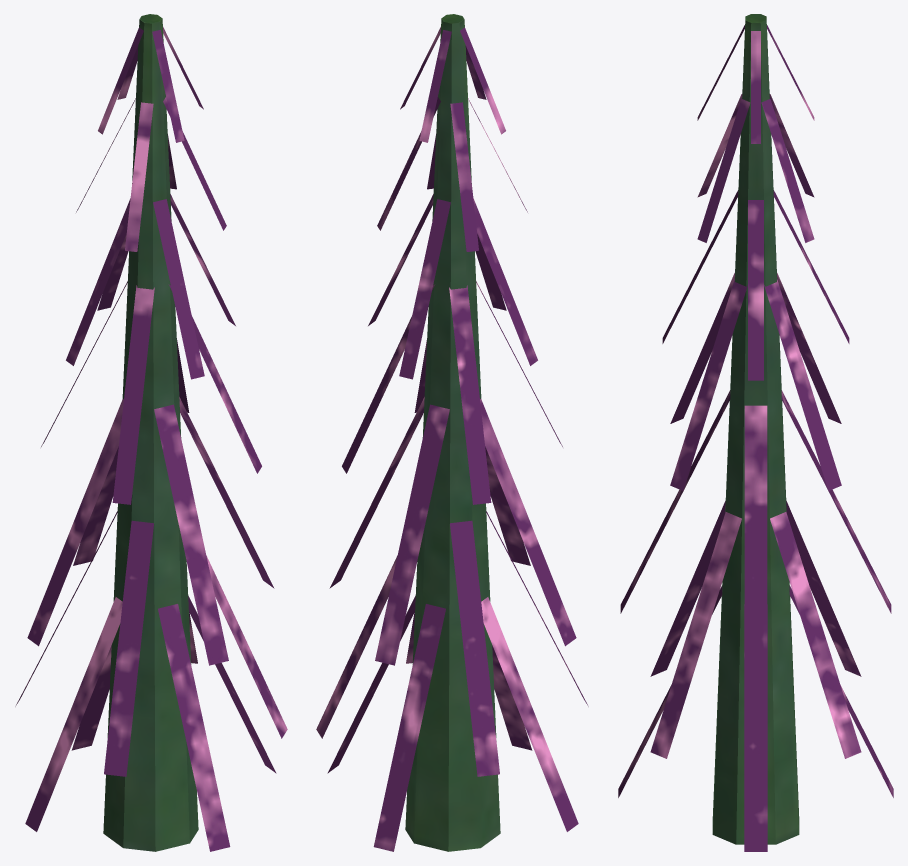
The model's file is Plant1.fbx.
The picture shows the model from 3 angles, left to right: view 1: azimuth 30°, elevation 25°; view 2: azimuth 150°, elevation 25°; view 3: azimuth 270°, elevation 25°; orthographic projection.
Parts seen in each view (by area): view 1: Cube; view 2: Cube; view 3: Cube.
Boxes of the visible parts, box(x1,y1,x2,y2) form: Cube: box(15, 14, 287, 851); Cube: box(316, 14, 588, 851); Cube: box(618, 14, 893, 851).
Bounding box in the file's own units: 0.5418 × 1.75 × 0.5418.
Materials: 1 (1 with a texture image).
